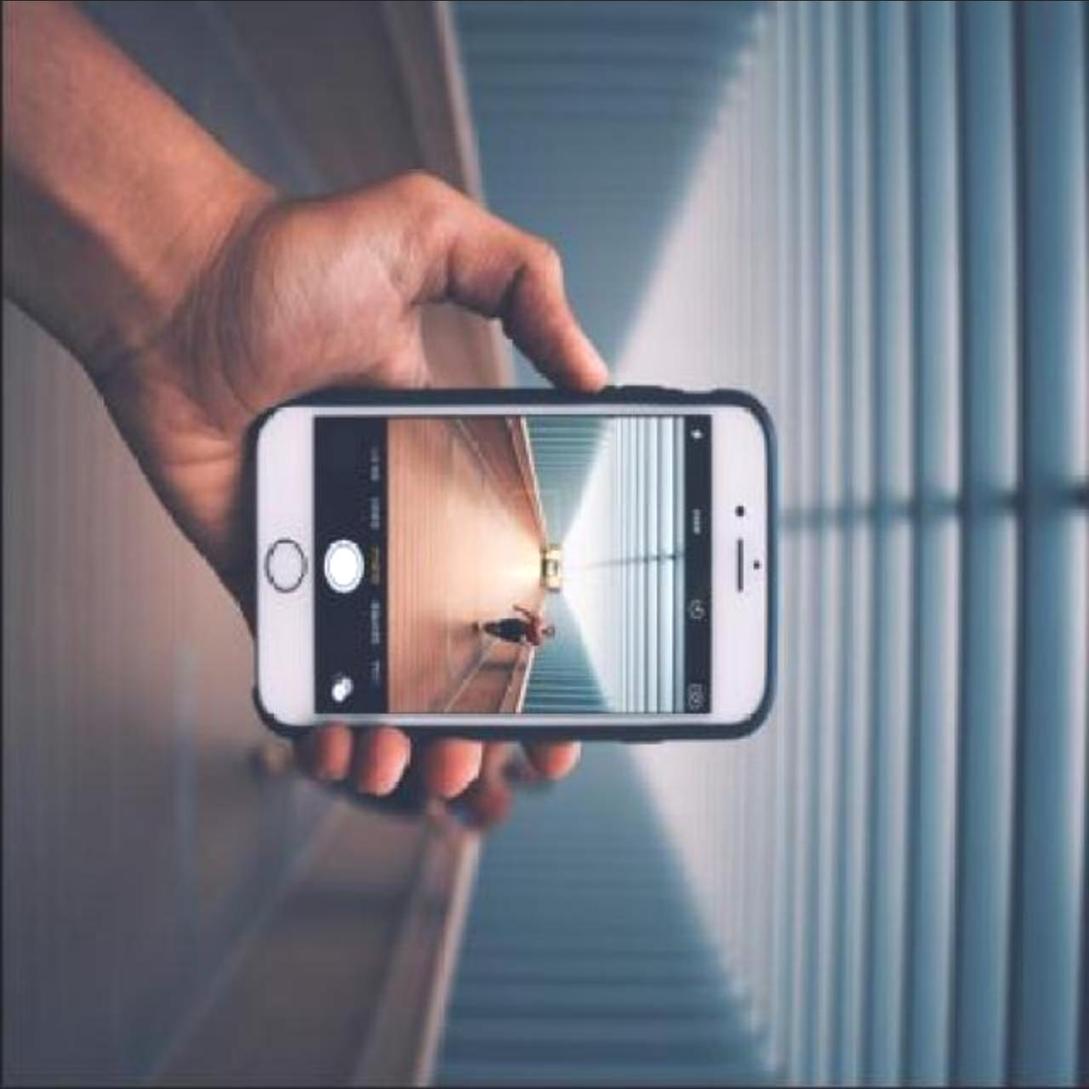phone: (239, 389, 778, 738)
